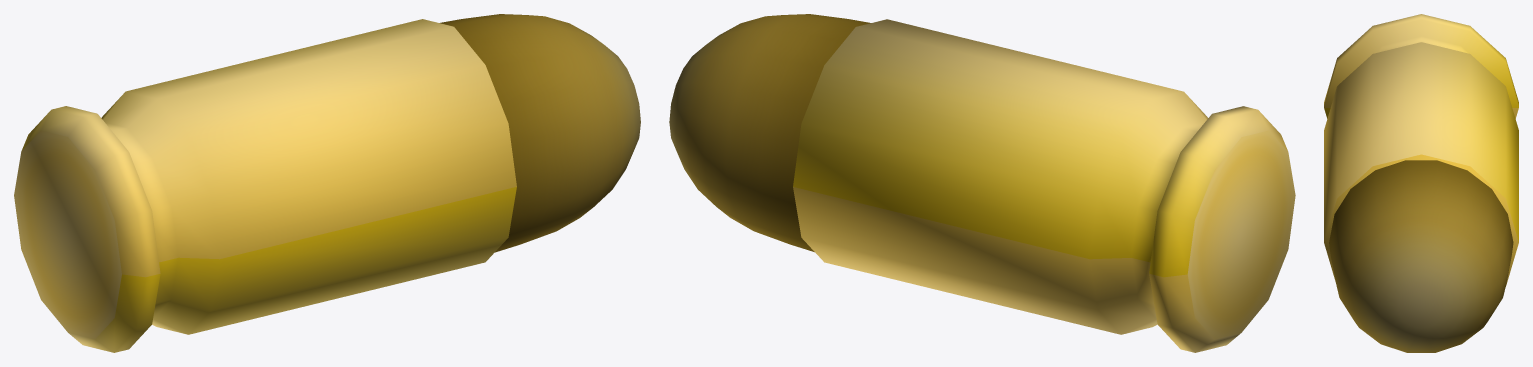
File: bullet.fbx
3 renders of one model, left to right at view 1: azimuth 30°, elevation 25°; view 2: azimuth 150°, elevation 25°; view 3: azimuth 270°, elevation 25°, orthographic. The views are drawn at different scales.
Parts seen in each view (by area): view 1: Cylinder001; view 2: Cylinder001; view 3: Cylinder001.
Part boxes in pixels (x1,y1,x2,y2): Cylinder001: (14, 14, 640, 352); Cylinder001: (669, 14, 1295, 352); Cylinder001: (1324, 14, 1518, 352).
Bounding box in the file's own units: 0.564 × 0.22 × 0.22.
1 material, 1 textured.
